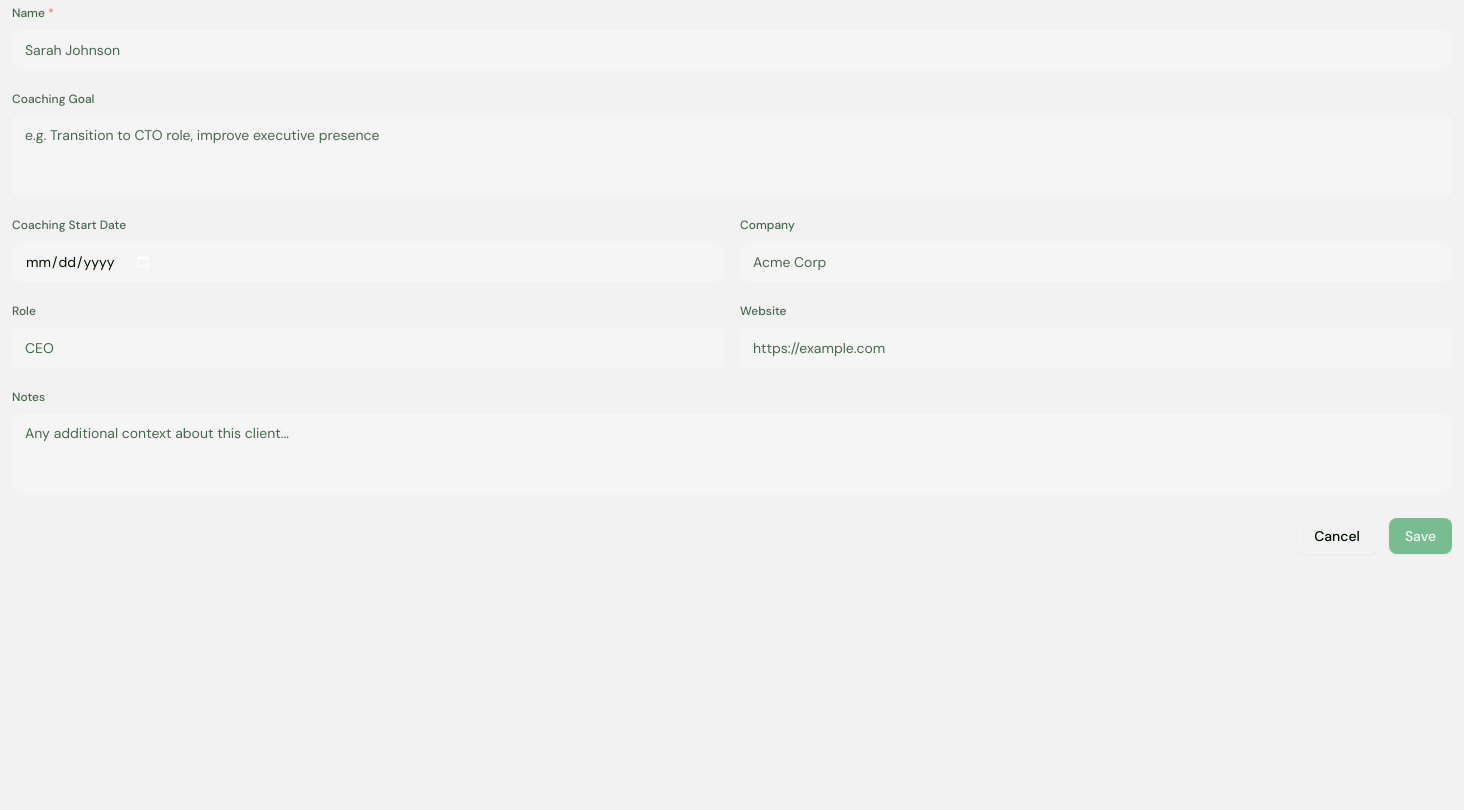
Test: ClientForm › Form Validation › should enable save button when form is valid
Expected: the button "Save" is disabled, [1389,518,1452,554]
# Enter valid name
Type "Test Client" into the field labelled "Name *". click: [732, 50]
box: [12,30,1452,70]
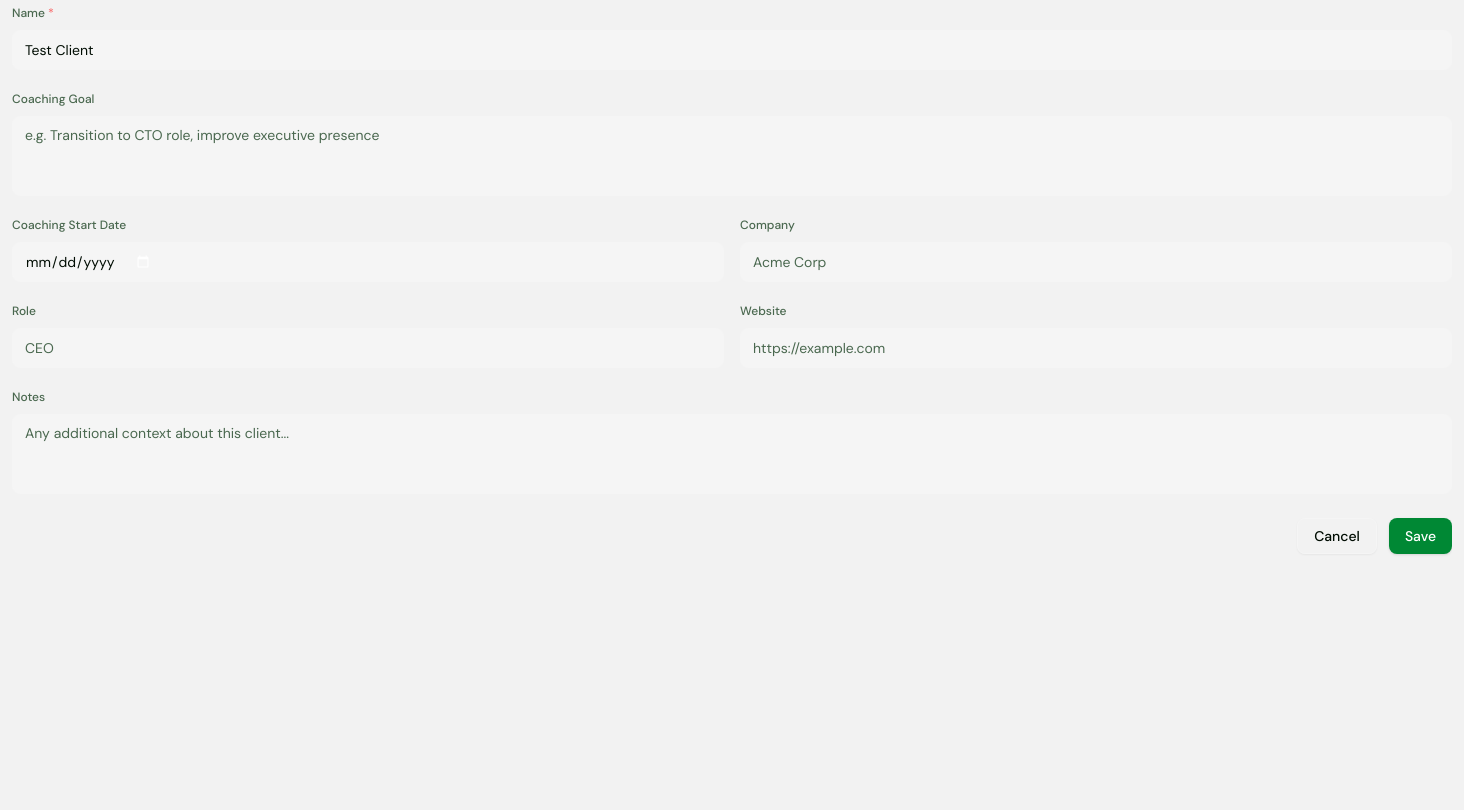
Expected: the button "Save" is enabled, [1389,518,1452,554]
